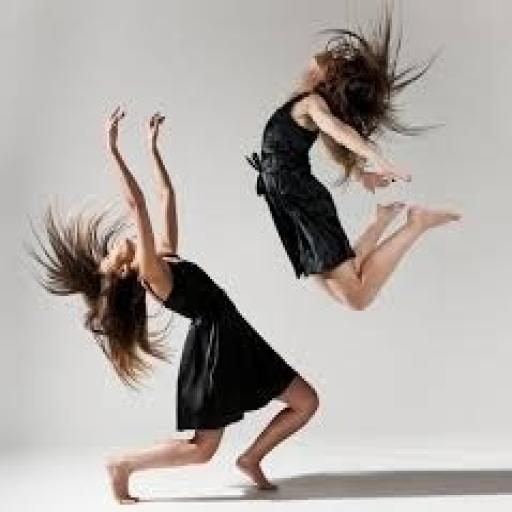dancing: (26, 102, 324, 509), (242, 0, 465, 315)
